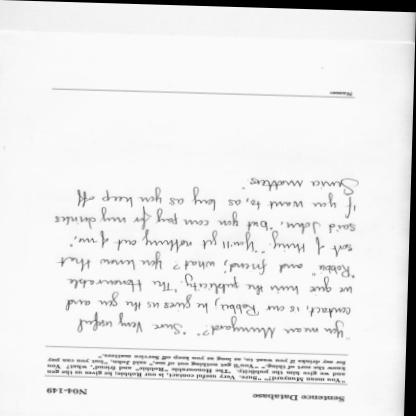Handwritten text: (56, 289, 363, 320), (56, 204, 363, 235), (54, 249, 365, 279), (63, 190, 386, 218), (73, 311, 351, 343), (74, 227, 355, 255), (59, 271, 357, 296), (246, 166, 367, 194)
